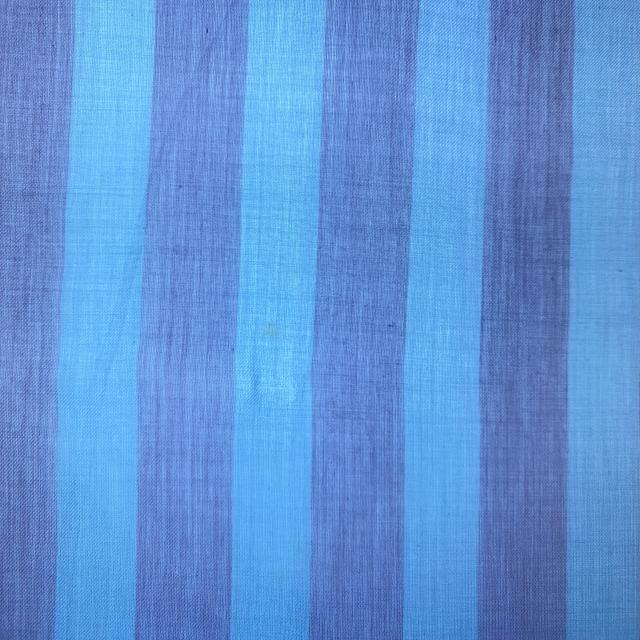defect: (227, 320, 318, 400)
